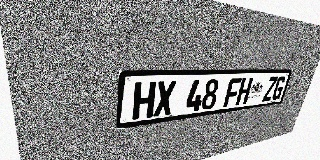4: (185, 79, 206, 112)
8: (200, 79, 221, 110)
F: (223, 78, 242, 107)
G: (271, 76, 287, 100)
H: (132, 81, 156, 120), (235, 78, 253, 105)
X: (153, 81, 176, 117)
Z: (262, 77, 278, 102)
